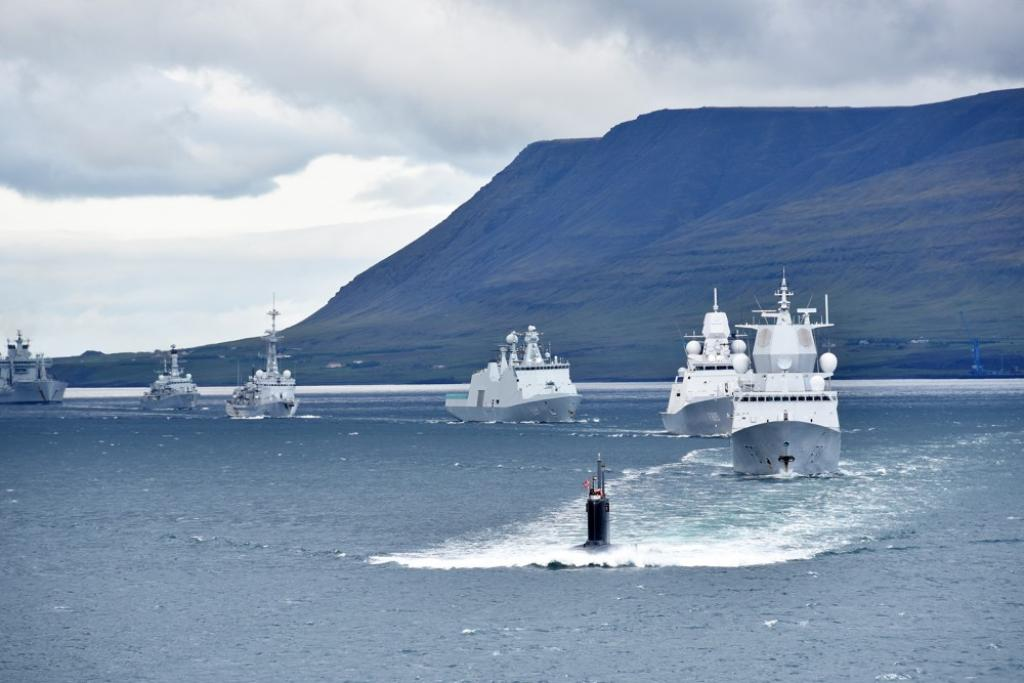Warship: (720, 260, 848, 482), (653, 287, 753, 444), (440, 322, 588, 428), (218, 302, 310, 424), (130, 328, 198, 418), (2, 324, 72, 410)
